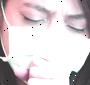with_mask: (1, 2, 90, 85)
